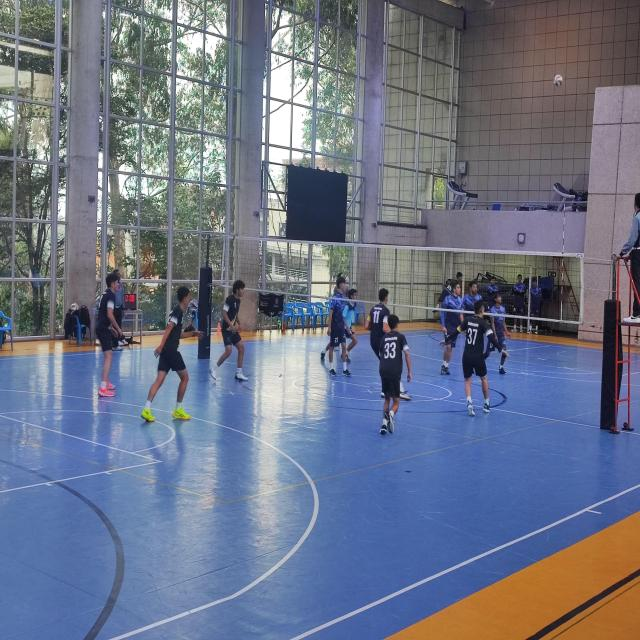volleyball: (554, 75, 562, 87), (70, 302, 78, 313)
